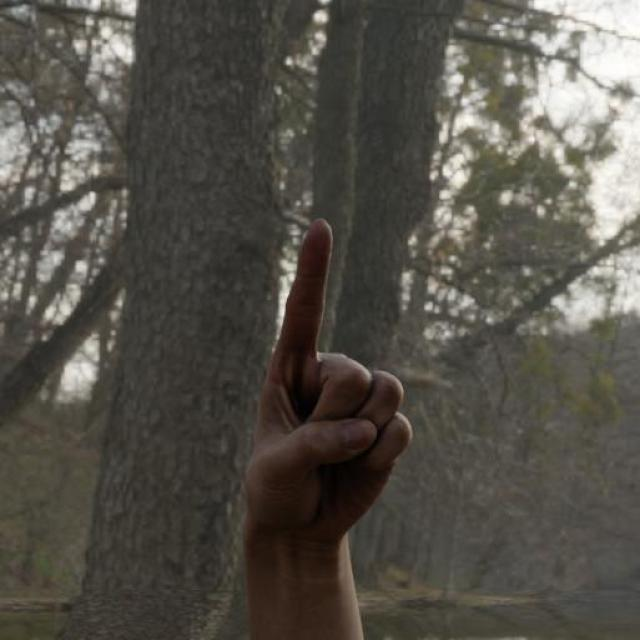Z: (218, 202, 440, 598)
